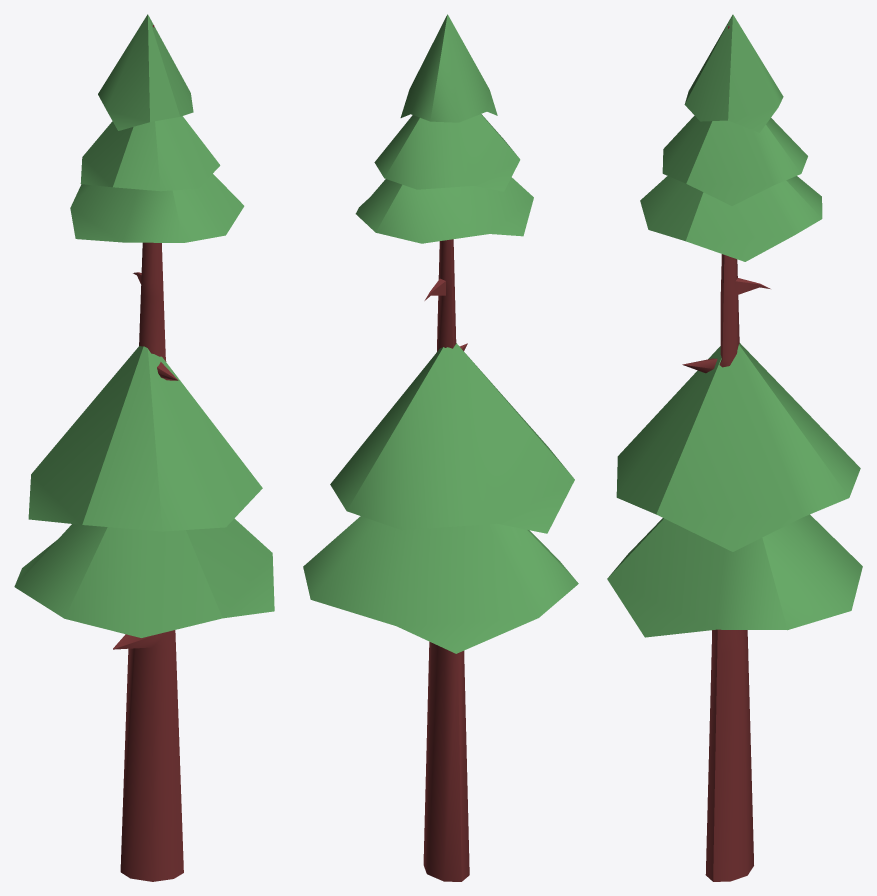
File: pine_06.glb
3 renders of one model, left to right at view 1: azimuth 30°, elevation 25°; view 2: azimuth 150°, elevation 25°; view 3: azimuth 270°, elevation 25°, orthographic.
Visible parts, largest first — view 1: default5_Material_0; view 2: default5_Material_0; view 3: default5_Material_0.
Part boxes in pixels (x1,y1,x2,y2): default5_Material_0: [14, 14, 274, 881]; default5_Material_0: [303, 14, 578, 881]; default5_Material_0: [607, 14, 862, 881].
Bounding box in the file's own units: 0.0294 × 0.1049 × 0.0285.
Materials: 1 (1 with a texture image).
